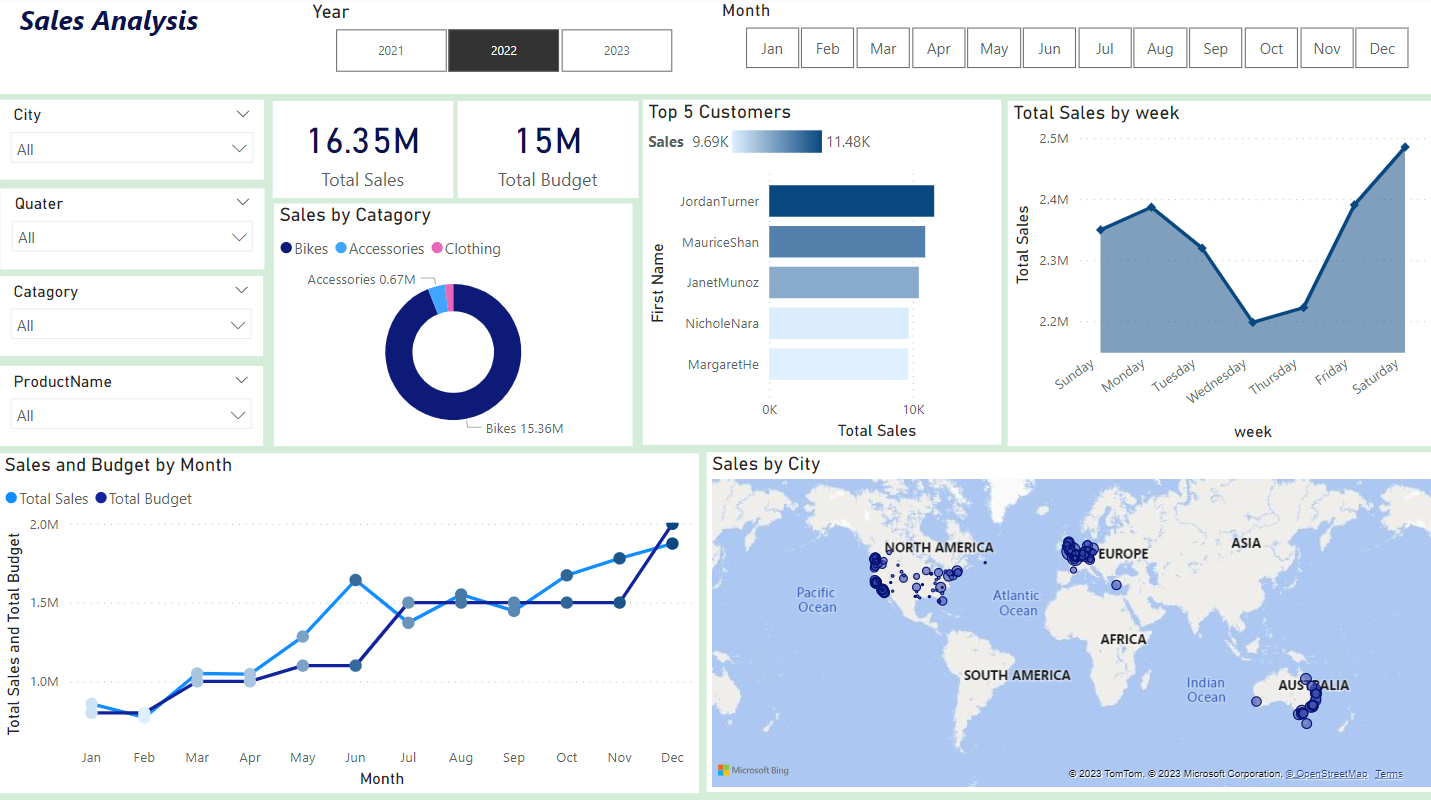

What the dashboard file says about the page in this screenshot:
{"tool":"powerbi","page":{"name":"sales","canvas":[1280,720],"ordinal":0},"visuals":[{"type":"textbox","box":[0,0,1279.6,86.8],"z":0},{"type":"slicer","fields":{"Values":["Dim_Customer.City"]},"box":[0,92.9,236.4,71.2],"z":1000},{"type":"slicer","fields":{"Values":["Dim_Calender.Quarter"]},"box":[1.2,171.3,235.2,72.4],"z":2000},{"type":"slicer","fields":{"Values":["Dim_Product.Catagory"]},"box":[0,249.6,235.2,71.2],"z":3000},{"type":"slicer","fields":{"Values":["Dim_Product.ProductName"]},"box":[0,329.2,235.2,71.2],"z":4000},{"type":"slicer","title":"Month","fields":{"Values":["Dim_Calender.Month"]},"box":[639.2,3.6,640.4,67.5],"z":5000},{"type":"donutChart","title":"Sales by Catagory","fields":{"Y":["Necessary Measures.Total Sales"],"Category":["Dim_Product.Catagory"]},"box":[244.8,184.5,319.6,215.9],"z":6000},{"type":"slicer","title":"Year","fields":{"Values":["Dim_Calender.year"]},"box":[273.8,3.6,349.7,71.2],"z":7000},{"type":"lineChart","title":"Sales and Budget by Month","fields":{"Y":["Necessary Measures.Total Sales","Necessary Measures.Total Budget"],"Category":["Dim_Calender.Month"]},"box":[0,407.6,623.5,302.7],"z":8000},{"type":"barChart","title":"Top 5 Customers ","fields":{"Y":["Necessary Measures.Total Sales"],"Category":["Dim_Customer.FullName"]},"box":[572.9,92.9,319.6,307.5],"z":9000},{"type":"map","title":"Sales by City","fields":{"Category":["Dim_Customer.City"],"Size":["Necessary Measures.Total Sales"]},"box":[629.5,406.4,650.1,302.7],"z":10000},{"type":"card","fields":{"Values":["Necessary Measures.Total Sales"]},"box":[244,93.2,160.4,86.4],"z":11000},{"type":"areaChart","fields":{"Category":["Dim_Calender.week"],"Y":["Necessary Measures.Total Sales"]},"box":[898,93.2,377,307.1],"z":12000},{"type":"card","fields":{"Values":["Necessary Measures.Total Budget"]},"box":[408.6,93.2,160.4,86.4],"z":13000}]}

Visuals, with their boxes in screenshot pixels (x1, y1, x2, y2), scaled from the page's 1280x720 canvas onto the 1431x800 screenshot:
textbox: (0,0,1430,96)
slicer - Dim_Customer.City: (0,103,264,182)
slicer - Dim_Calender.Quarter: (1,190,264,271)
slicer - Dim_Product.Catagory: (0,277,263,356)
slicer - Dim_Product.ProductName: (0,366,263,445)
"Month" slicer: (715,4,1430,79)
"Sales by Catagory" donutChart: (274,205,631,445)
"Year" slicer: (306,4,697,83)
"Sales and Budget by Month" lineChart: (0,453,697,789)
"Top 5 Customers " barChart: (640,103,998,445)
"Sales by City" map: (704,452,1430,788)
card - Necessary Measures.Total Sales: (273,104,452,200)
areaChart - Dim_Calender.week x Necessary Measures.Total Sales: (1004,104,1425,445)
card - Necessary Measures.Total Budget: (457,104,636,200)
